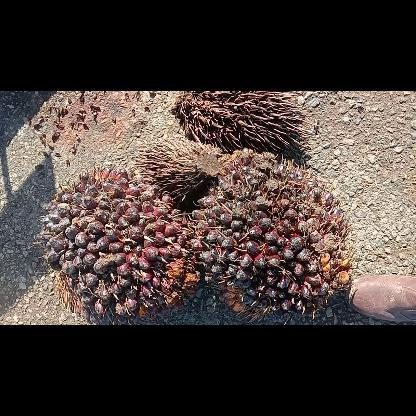Janjang kosong: (172, 91, 318, 151), (131, 130, 221, 200)
TBS mentah: (188, 148, 352, 324), (35, 166, 199, 324)
